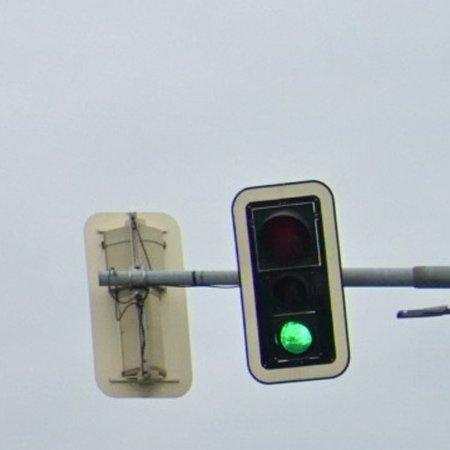traffic lights: (233, 181, 350, 384), (85, 213, 192, 398)
